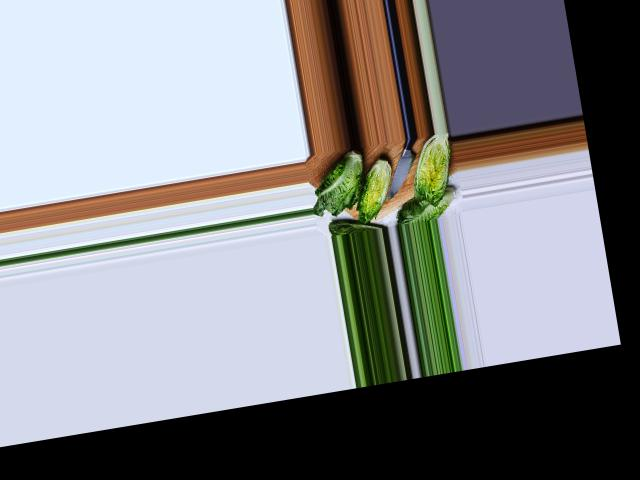lettuce: (393, 186, 458, 222)
